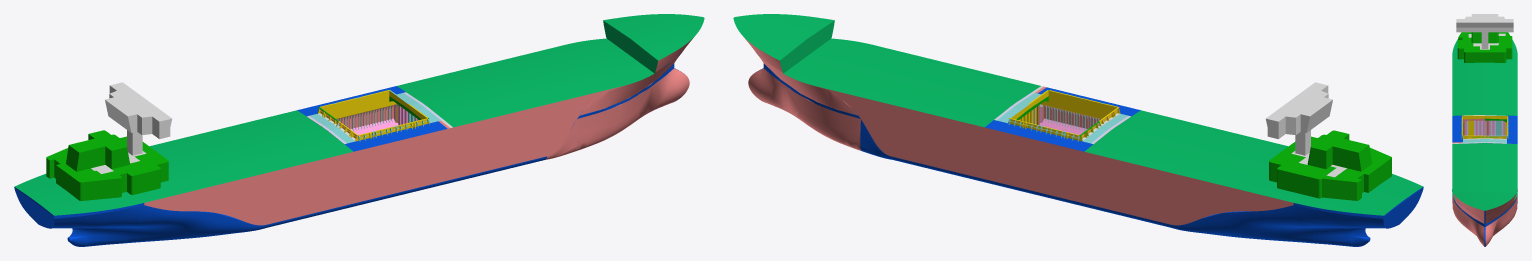
3 renders of one model, left to right at view 1: azimuth 30°, elevation 25°; view 2: azimuth 150°, elevation 25°; view 3: azimuth 270°, elevation 25°, orthographic. The views are drawn at different scales.
Visible parts, largest first — view 1: DHC 00; view 2: DHC 00; view 3: DHC 00.
Part boxes in pixels (x1,y1,x2,y2): DHC 00: [14, 14, 704, 246]; DHC 00: [733, 14, 1423, 246]; DHC 00: [1452, 14, 1517, 246].
Bounding box in the file's own units: 1938 × 284 × 362.
